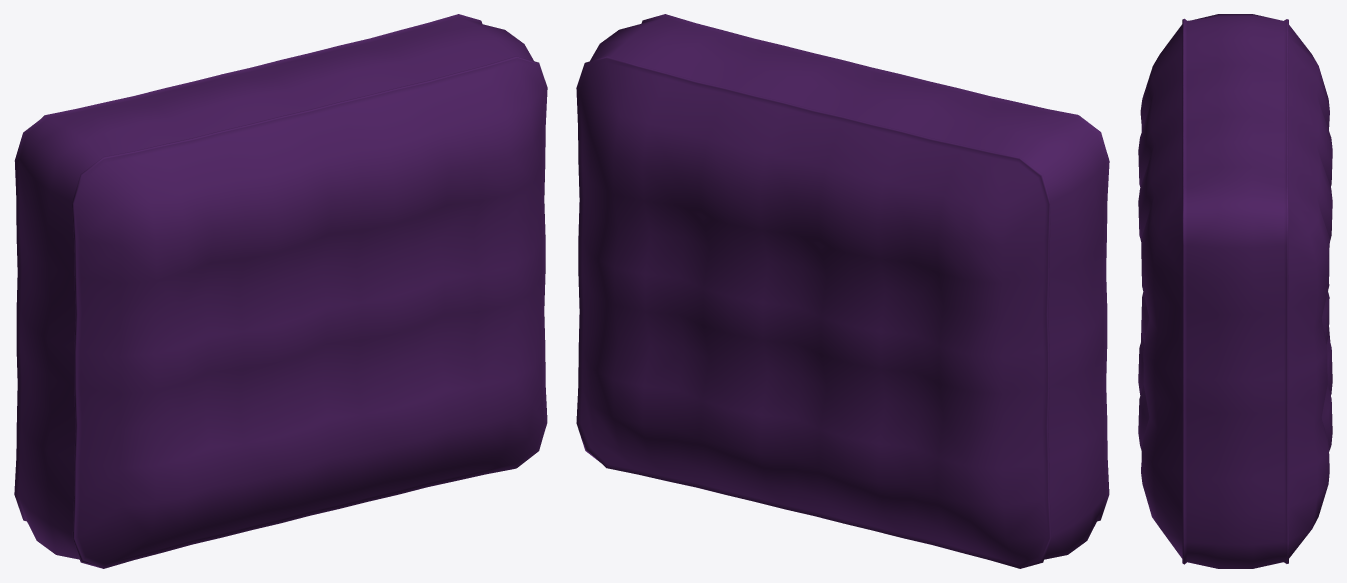
File: MeshPillow_21_0.obj
3 views of the same model, side by side, from view 1: azimuth 30°, elevation 25°; view 2: azimuth 150°, elevation 25°; view 3: azimuth 270°, elevation 25° (orthographic). The views are drawn at different scales.
Parts seen in each view (by area): view 1: Pillow_21; view 2: Pillow_21; view 3: Pillow_21.
Boxes of the visible parts, bbox=[...] form: Pillow_21: bbox=[14, 14, 547, 568]; Pillow_21: bbox=[576, 14, 1109, 568]; Pillow_21: bbox=[1138, 14, 1332, 568].
Size of the model in its own units: 0.3904 by 0.3243 by 0.1517.
